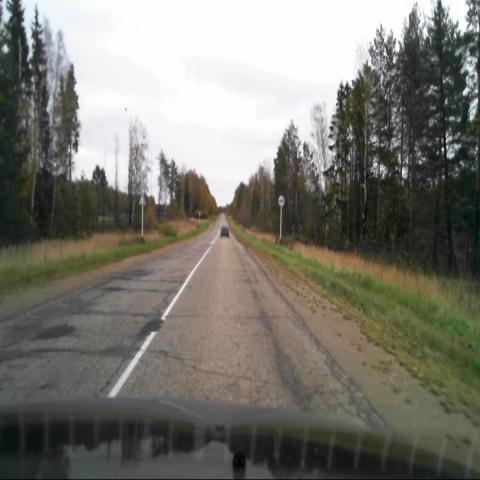3_21: (277, 194, 285, 207)
